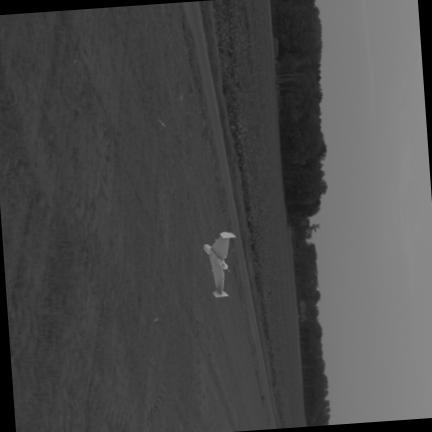Shahed: (202, 232, 234, 296)
